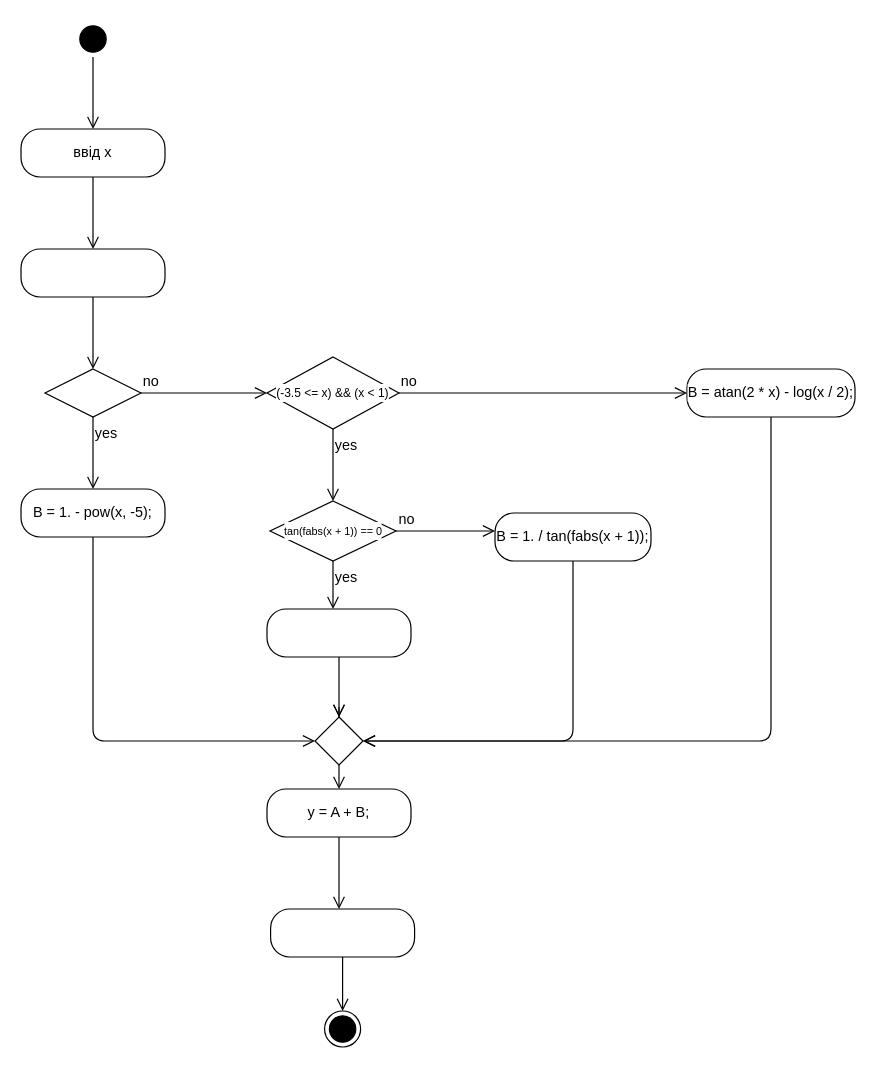
This 876x1068 diagram has some shape labels left out. The shapes that lost their labels are listed below. From the top down, each one's box as (x1, y1, x2, y2) in pixels, then its label:
(20, 248, 165, 297): A = 8.1 + x*x*x;
(44, 368, 141, 417): x < -3.5
(266, 608, 411, 657): B = 1.;
(269, 908, 415, 957): вивід "y"
